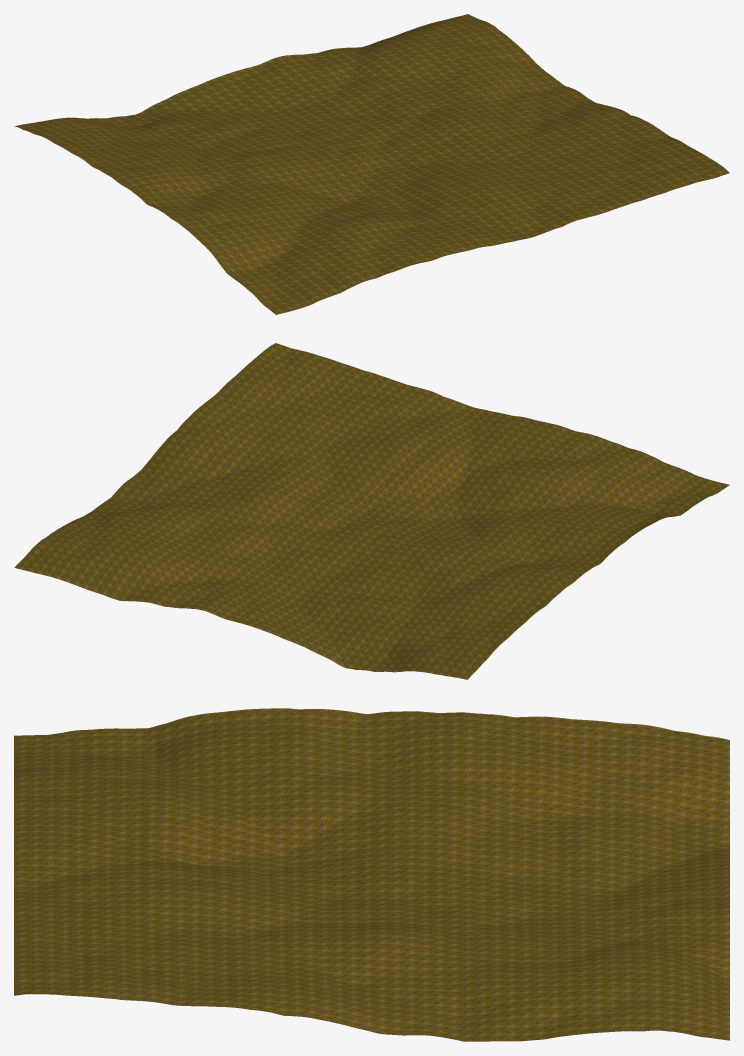
Rendered from Forest_Ground.fbx.
The picture shows the model from 3 angles, top to bottom: view 1: azimuth 30°, elevation 25°; view 2: azimuth 150°, elevation 25°; view 3: azimuth 270°, elevation 25°; orthographic projection. The views are drawn at different scales.
Parts seen in each view (by area): view 1: Landscape; view 2: Landscape; view 3: Landscape.
Part boxes in pixels (bbox=[...]): Landscape: bbox=[14, 14, 729, 314]; Landscape: bbox=[14, 343, 729, 679]; Landscape: bbox=[14, 708, 729, 1041].
Bounding box in the file's own units: 200 × 22.54 × 200.
Materials: 1 (1 with a texture image).
